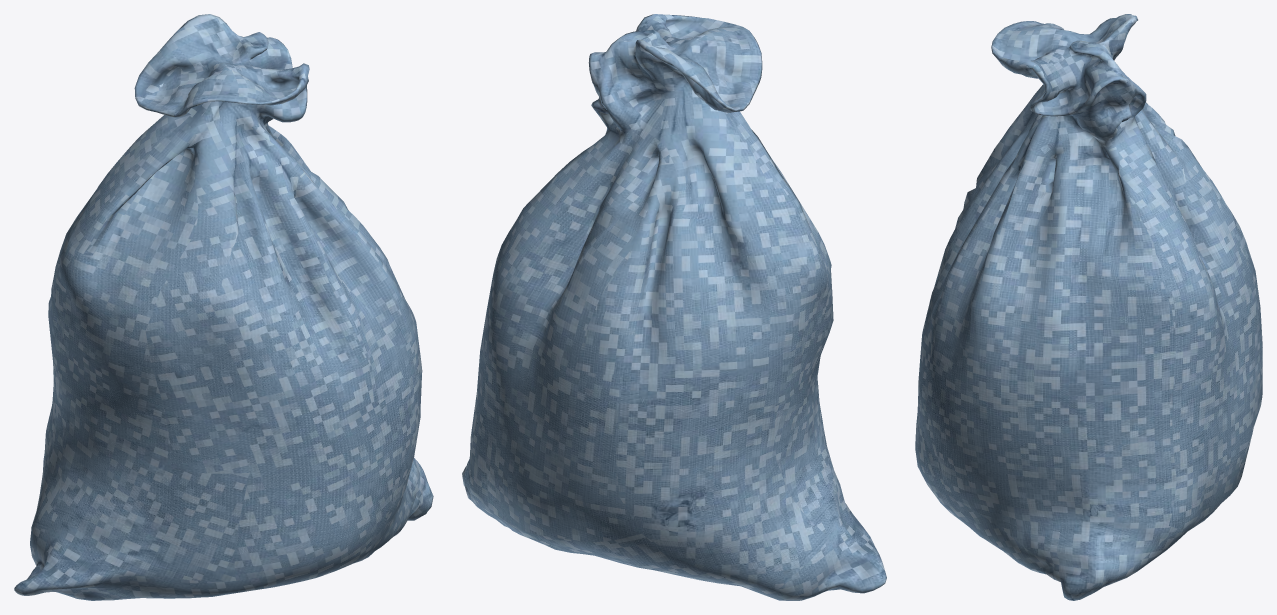
File: frozen_soil.glb
3 views of the same model, side by side, from view 1: azimuth 30°, elevation 25°; view 2: azimuth 150°, elevation 25°; view 3: azimuth 270°, elevation 25° (orthographic). The views are drawn at different scales.
Visible parts, largest first — view 1: Bag02_Low; view 2: Bag02_Low; view 3: Bag02_Low.
Boxes of the visible parts, bbox=[...] form: Bag02_Low: bbox=[14, 14, 433, 600]; Bag02_Low: bbox=[462, 14, 886, 600]; Bag02_Low: bbox=[915, 14, 1262, 600].
Bounding box in the file's own units: 0.2604 × 0.315 × 0.1988.
1 material, 1 textured.
